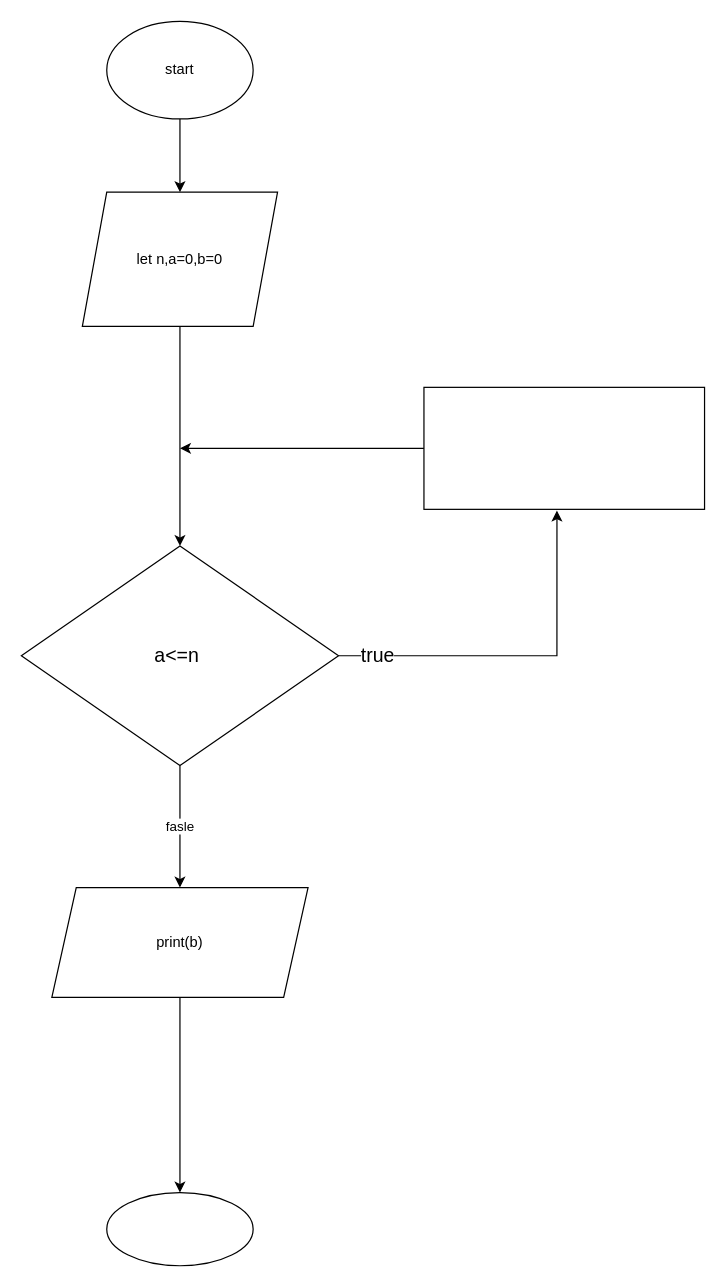
This 726x1287 diagram has some shape labels left out. The box of each missing label's shape, as (x1, y1, x2, y2) in pixels:
b=b*a a++: (423, 386, 705, 509)
end: (106, 1191, 253, 1266)
